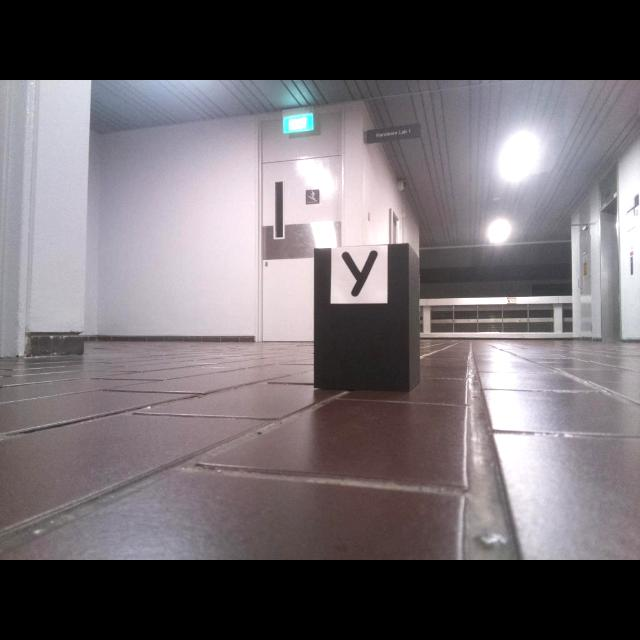Y: (342, 251, 378, 296)
